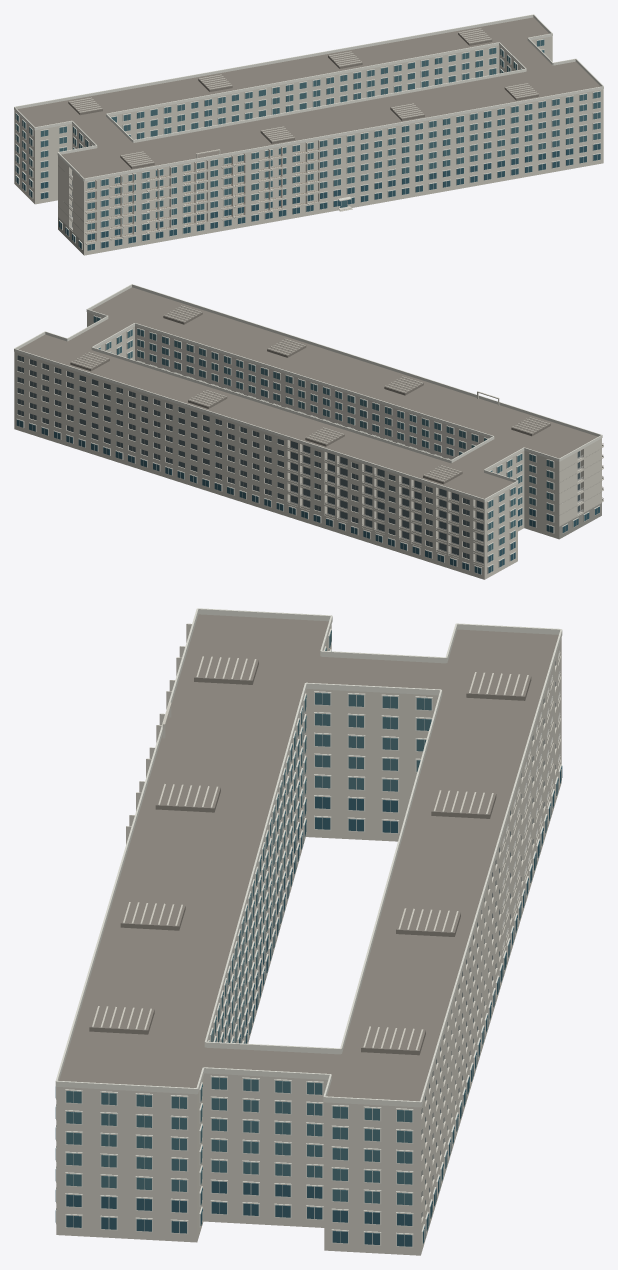
The model's file is chunk-dorm-relation-12874255.glb.
The picture shows the model from 3 angles, top to bottom: view 1: azimuth 30°, elevation 25°; view 2: azimuth 150°, elevation 25°; view 3: azimuth 270°, elevation 25°; orthographic projection. The views are drawn at different scales.
Parts seen in each view (by area): view 1: chunk-dorm-relation-12874255; view 2: chunk-dorm-relation-12874255; view 3: chunk-dorm-relation-12874255.
Part boxes in pixels (x1=…): chunk-dorm-relation-12874255: x1=14, y1=14, x2=603, y2=255; chunk-dorm-relation-12874255: x1=14, y1=284, x2=603, y2=579; chunk-dorm-relation-12874255: x1=55, y1=608, x2=562, y2=1255.
Bounding box in the file's own units: 160 × 24.51 × 69.27.
Materials: 10 (1 with a texture image).
